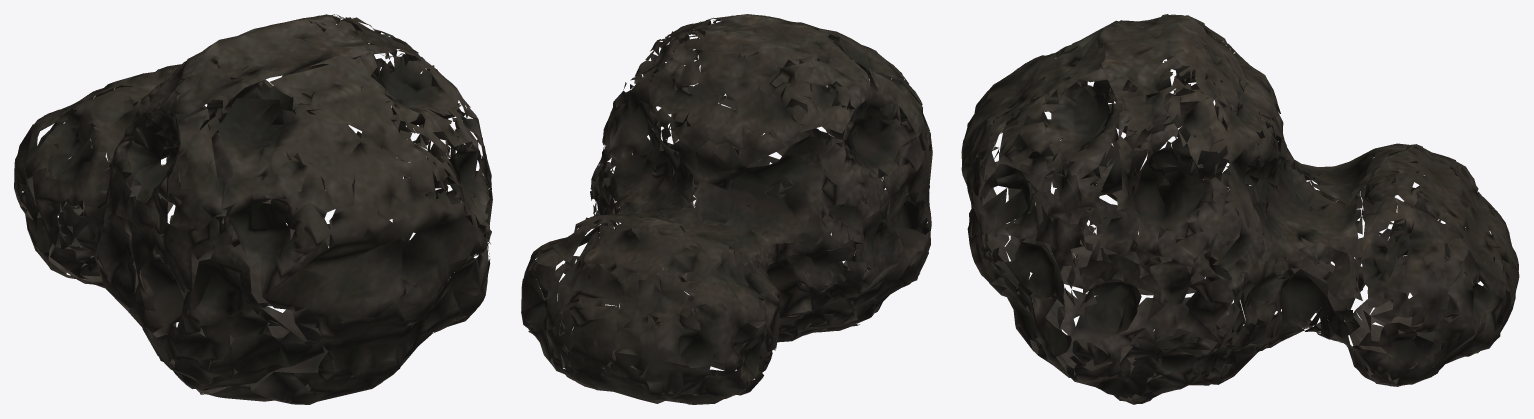
The model's file is asteroid_rare_1_lod2.glb.
3 renders of one model, left to right at view 1: azimuth 30°, elevation 25°; view 2: azimuth 150°, elevation 25°; view 3: azimuth 270°, elevation 25°, orthographic. The views are drawn at different scales.
Visible parts, largest first — view 1: model; view 2: model; view 3: model.
Boxes of the visible parts, <box> form: model: <box>14,14,492,404</box>; model: <box>521,14,932,404</box>; model: <box>961,14,1519,404</box>.
Bounding box in the file's own units: 1.22 × 1.27 × 1.89.
1 material, 1 textured.
